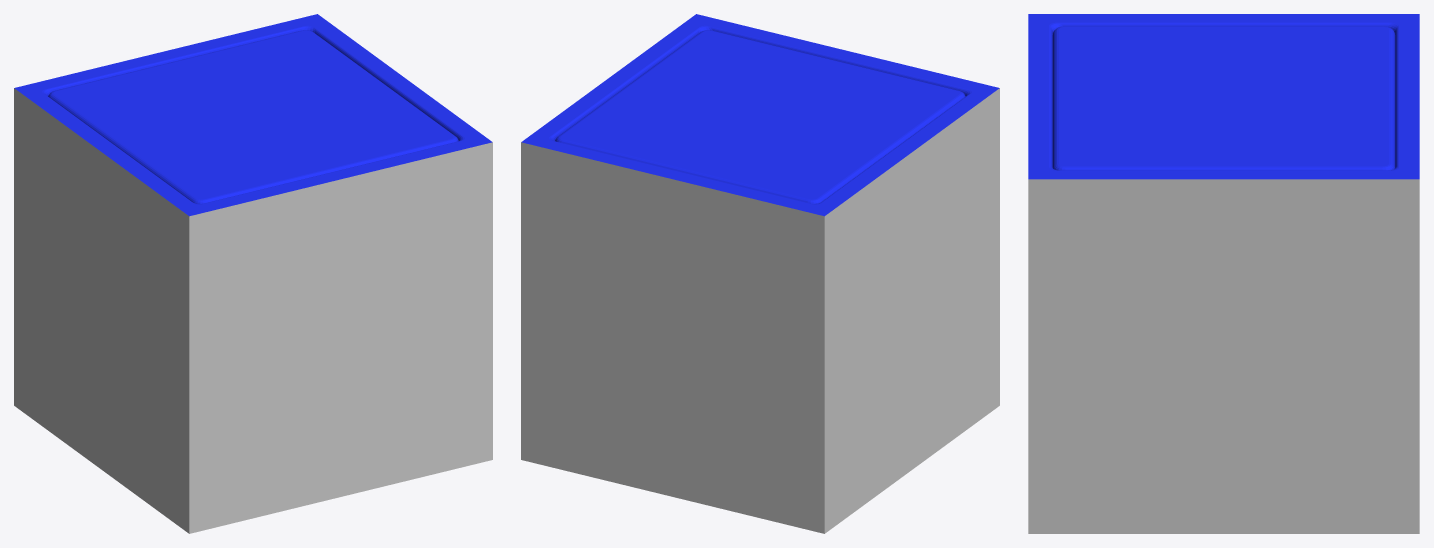
File: wall_blue.glb
The picture shows the model from 3 angles, left to right: view 1: azimuth 30°, elevation 25°; view 2: azimuth 150°, elevation 25°; view 3: azimuth 270°, elevation 25°; orthographic projection. The views are drawn at different scales.
Visible parts, largest first — view 1: Cube.004, Cube; view 2: Cube.004, Cube; view 3: Cube.004, Cube.
Part boxes in pixels (x1,y1,x2,y2): Cube.004: [14, 14, 492, 533]; Cube: [48, 30, 458, 203]; Cube.004: [521, 14, 999, 533]; Cube: [555, 30, 965, 203]; Cube.004: [1028, 14, 1419, 533]; Cube: [1052, 26, 1395, 170].
Size of the model in its own units: 1 by 1 by 1.
